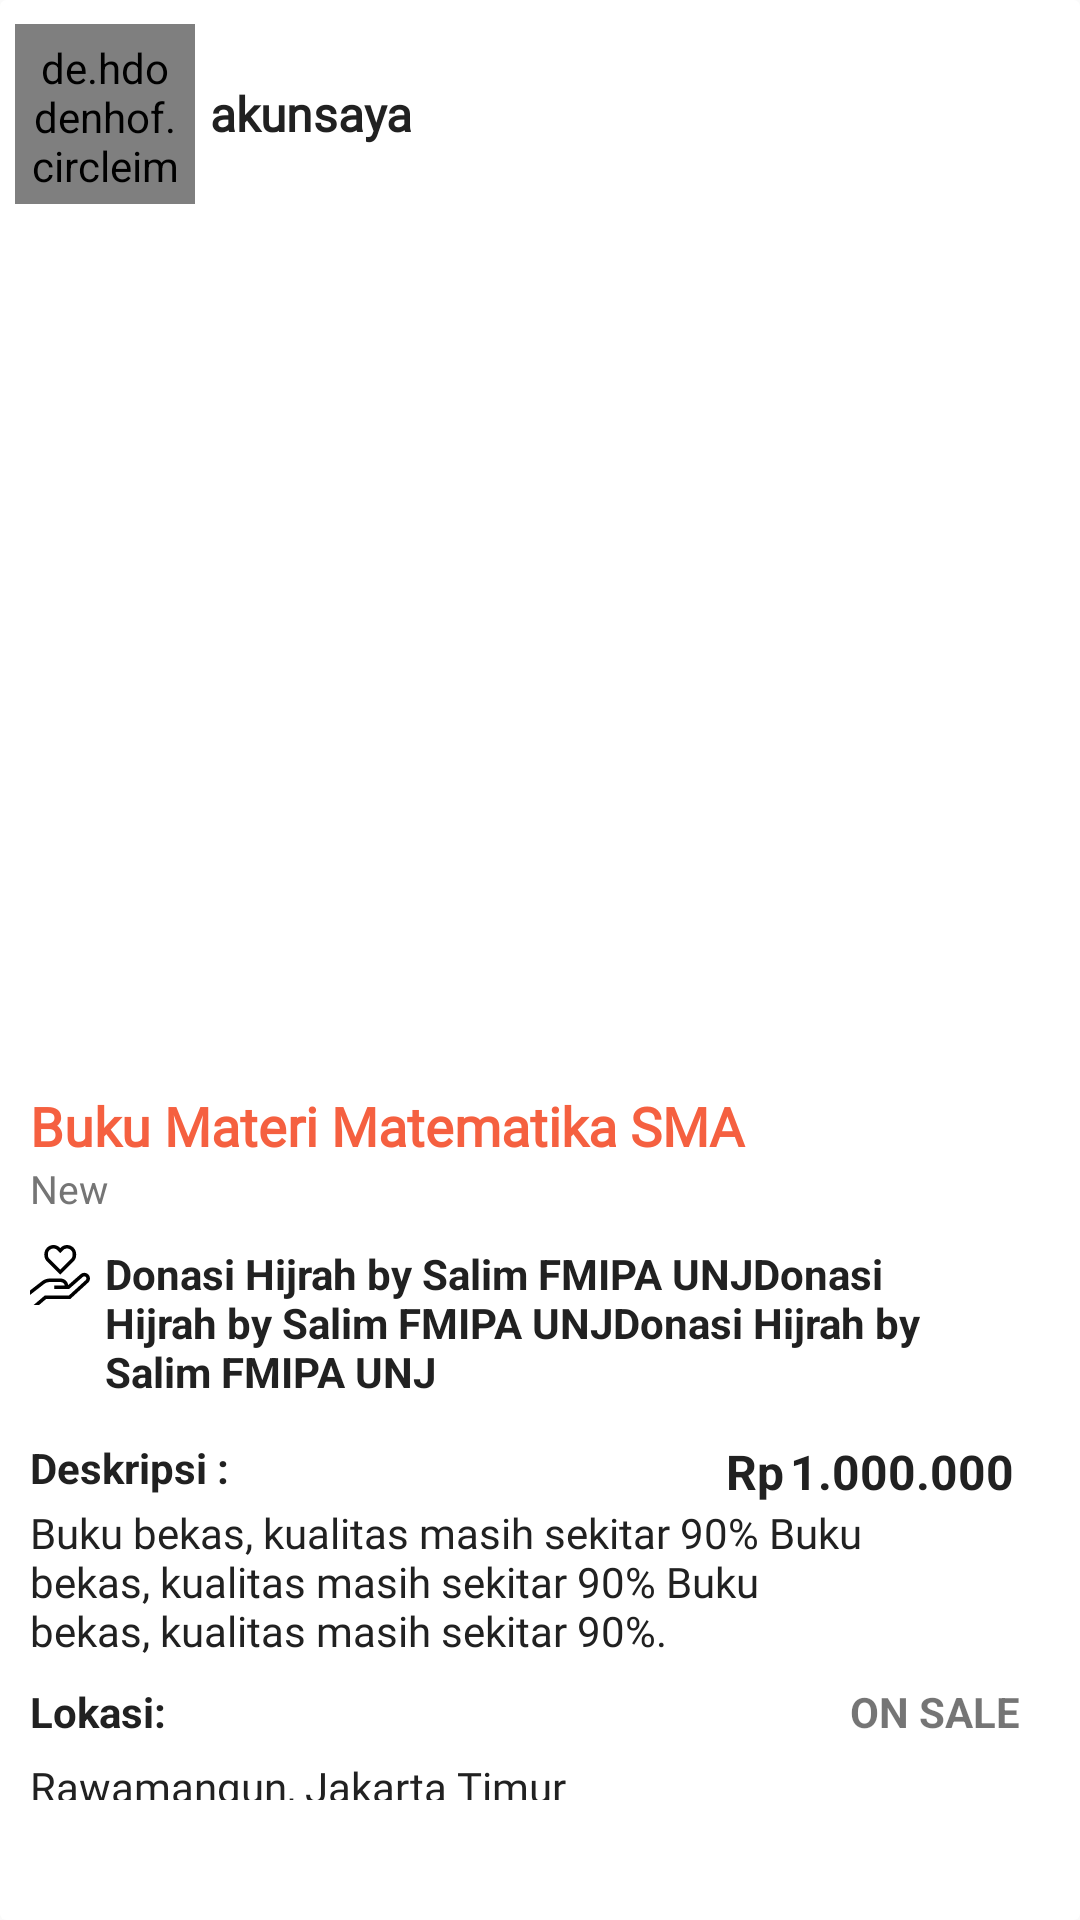

Locate icon controls on the screen. Image size 1080 × 1920, boxes as bbox(x1, y1, x2, y2).
campaign heart: bbox(30, 1245, 90, 1305)
